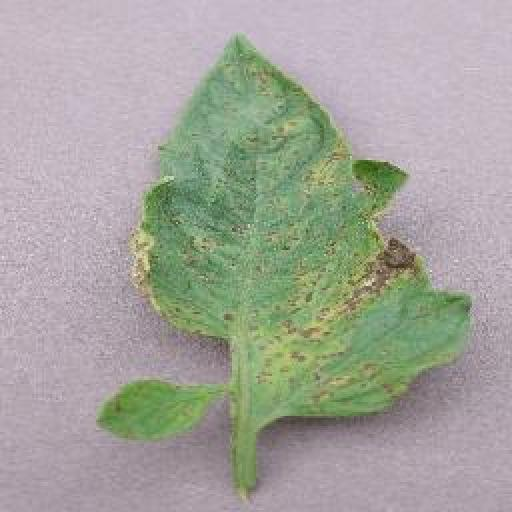Septoria: (135, 34, 475, 418)
